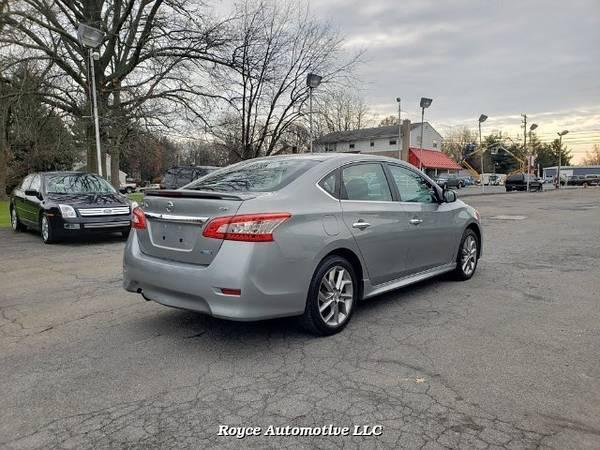Front_Fender: (449, 201, 480, 271)
Front_Right_Door: (398, 203, 453, 281)
Front_Right_Window: (385, 163, 442, 204)
Left_Taillight: (130, 204, 146, 228)
Rear_Bumper: (118, 229, 316, 319)
Rear_Fender: (236, 166, 351, 260)
Rear_Right_Door: (337, 201, 408, 298)
Rear_Right_Window: (339, 161, 396, 203)
Rear_Windshield: (178, 158, 319, 194)
Right_Taillight: (203, 211, 293, 243)
Roof: (252, 152, 452, 199)
Tailgate: (135, 191, 257, 265)
Wheel: (309, 255, 364, 333), (456, 231, 481, 277)
